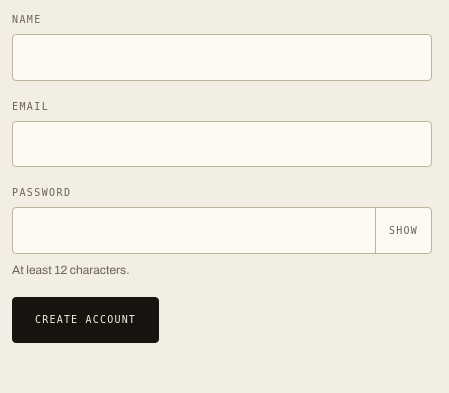
SignUpForm › can request a fresh verification email
Type "Asha" into the field labelled "NAME".
click(222, 57); type("Asha")  # box 12,34 -> 432,80
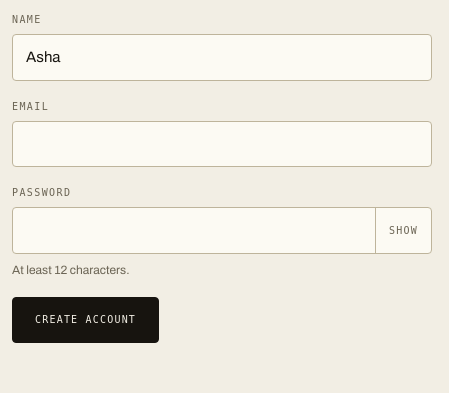
Type "asha@example.com" into the field labelled "EMAIL".
click(222, 144); type("asha@example.com")  # box 12,120 -> 432,167
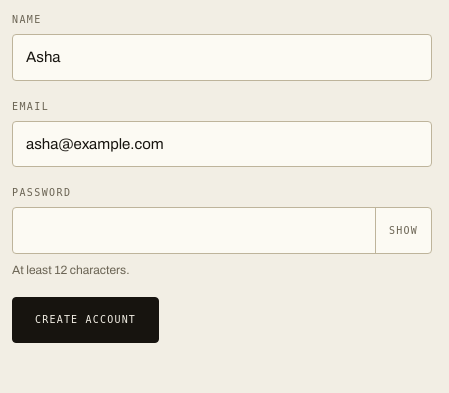
Type "a-sufficiently-long-password" into the password field labelled "PASSWORD".
click(222, 230); type("a-sufficiently-long-password")  # box 12,207 -> 432,254
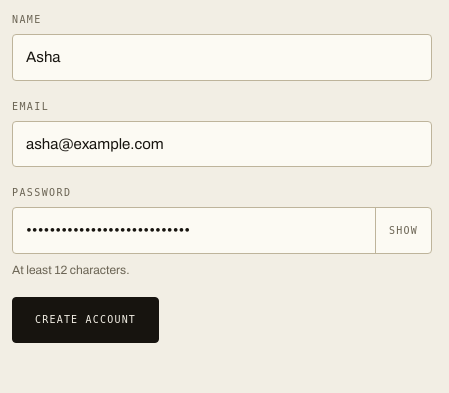
Click the button "CREATE ACCOUNT".
click(86, 320)  # box 12,296 -> 159,342
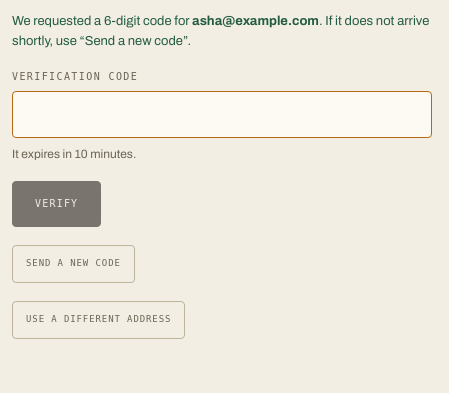
expect the message is shown: met, box 12,12 -> 432,51
Click the button "SEND A NEW CODE".
click(73, 264)  # box 12,244 -> 135,282
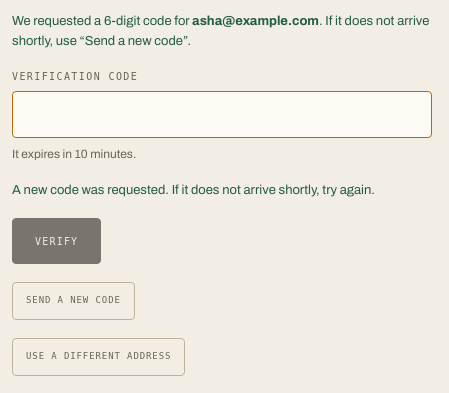
expect the text "new code was requested. If it does not arrive shortly, try again." is shown: met, box 12,182 -> 375,196
